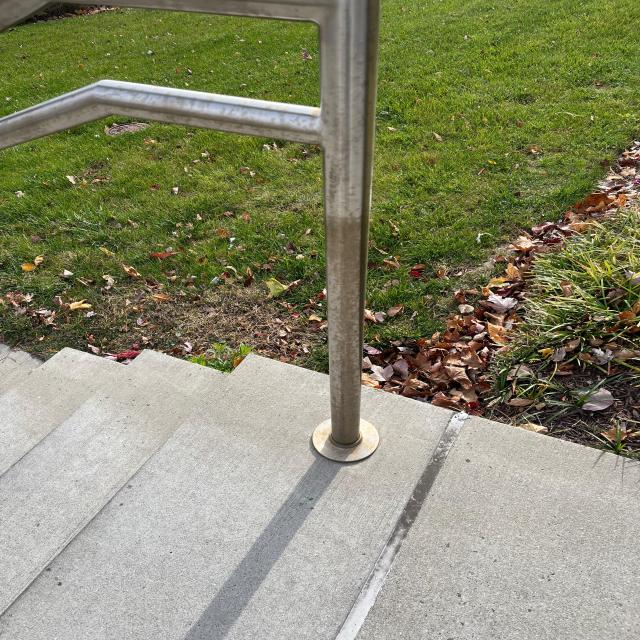Uniform Corrosion: (310, 320, 379, 463)
